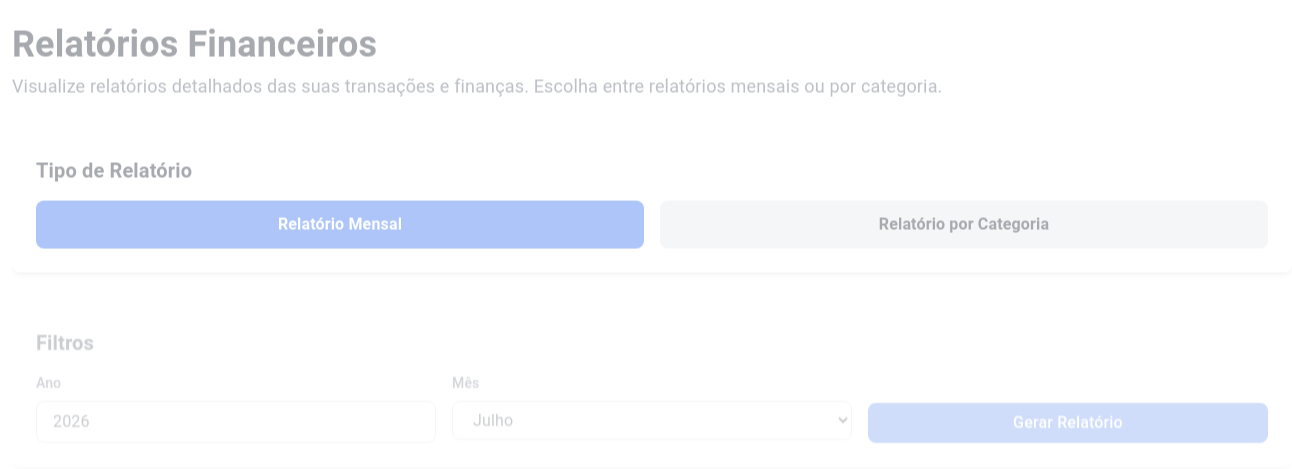
Test: ReportsPage Component › should initialize category report with default date range
The width and height of the screenshot is (1292, 469).
Click the button "Relatório por Categoria" at (964, 224), box [660, 200, 1268, 248]
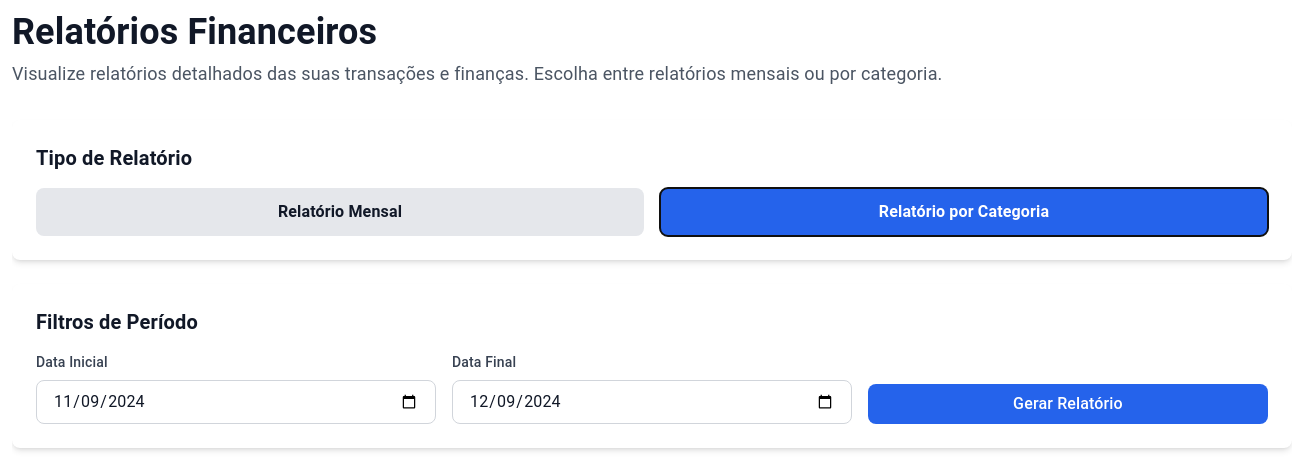
Result: the date field labelled "Data Inicial" holds "2024-11-09" at [36, 380, 436, 424]
Result: the date field labelled "Data Final" holds "2024-12-09" at [452, 380, 852, 424]
